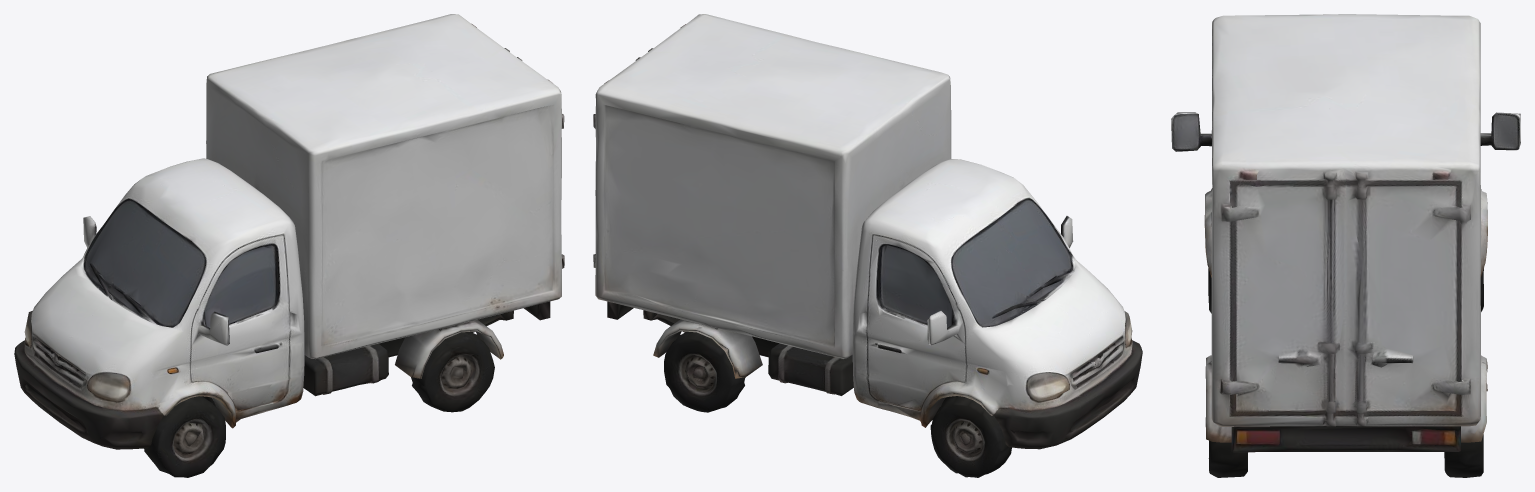
The model's file is van_delivery.glb.
The picture shows the model from 3 angles, left to right: view 1: azimuth 30°, elevation 25°; view 2: azimuth 150°, elevation 25°; view 3: azimuth 270°, elevation 25°; orthographic projection. The views are drawn at different scales.
Visible parts, largest first — view 1: tripo_node_fce86347-4370-48fd-bc1d-c283419e4045; view 2: tripo_node_fce86347-4370-48fd-bc1d-c283419e4045; view 3: tripo_node_fce86347-4370-48fd-bc1d-c283419e4045.
Part boxes in pixels (x1,y1,x2,y2): tripo_node_fce86347-4370-48fd-bc1d-c283419e4045: (14,14,564,477); tripo_node_fce86347-4370-48fd-bc1d-c283419e4045: (593,14,1142,477); tripo_node_fce86347-4370-48fd-bc1d-c283419e4045: (1171,14,1520,477).
Bounding box in the file's own units: 1 × 0.6196 × 0.5185.
Materials: 1 (1 with a texture image).
